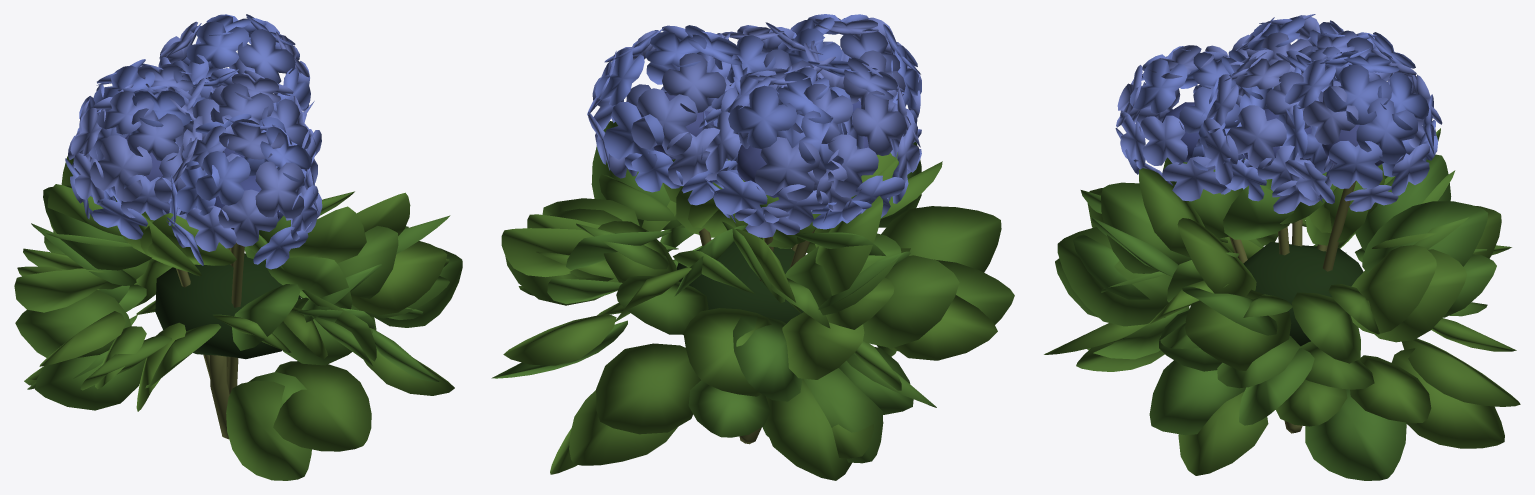
The model's file is potfill_hydrangea.glb.
3 renders of one model, left to right at view 1: azimuth 30°, elevation 25°; view 2: azimuth 150°, elevation 25°; view 3: azimuth 270°, elevation 25°, orthographic. The views are drawn at different scales.
Parts seen in each view (by area): view 1: Sammel Pflanze, Sammel Blatt, Sammel Putz, Sammel Stoff; view 2: Sammel Pflanze, Sammel Blatt, Sammel Stoff, Sammel Putz; view 3: Sammel Pflanze, Sammel Blatt, Sammel Putz, Sammel Stoff.
Part boxes in pixels (x1=…): Sammel Pflanze: x1=14, y1=14, x2=462, y2=480; Sammel Blatt: x1=155, y1=253, x2=300, y2=359; Sammel Putz: x1=176, y1=242, x2=244, y2=439; Sammel Stoff: x1=125, y1=77, x2=278, y2=230; Sammel Pflanze: x1=491, y1=14, x2=1014, y2=480; Sammel Blatt: x1=677, y1=241, x2=803, y2=323; Sammel Stoff: x1=639, y1=92, x2=876, y2=197; Sammel Putz: x1=699, y1=228, x2=815, y2=444; Sammel Pflanze: x1=1044, y1=14, x2=1520, y2=480; Sammel Blatt: x1=1243, y1=242, x2=1363, y2=346; Sammel Putz: x1=1229, y1=180, x2=1356, y2=433; Sammel Stoff: x1=1162, y1=102, x2=1383, y2=166.
Size of the model in its own units: 0.567 by 0.4867 by 0.5365.
